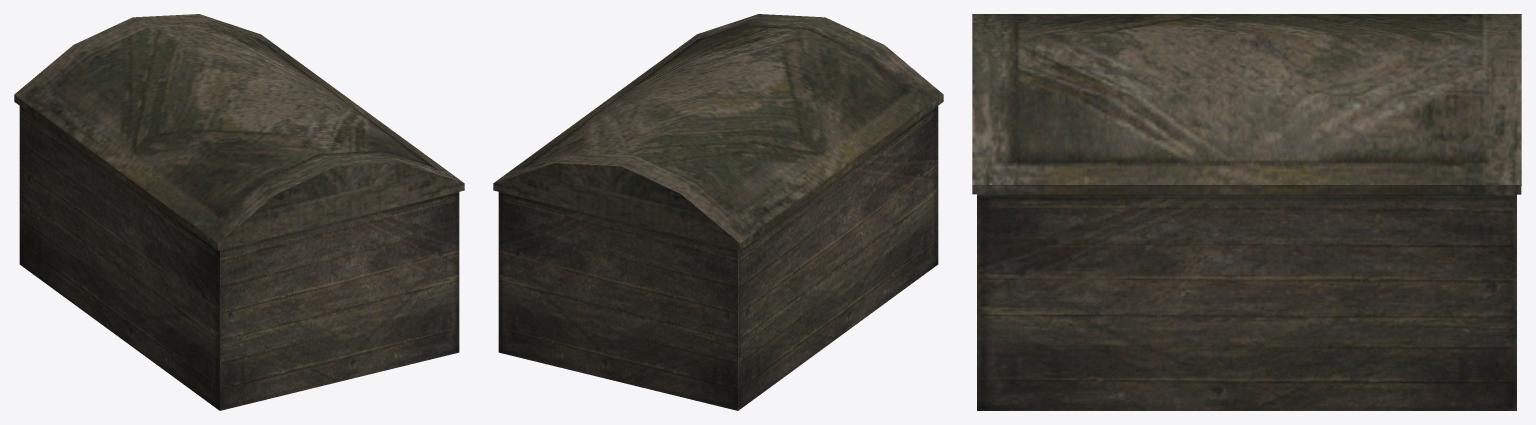
The model's file is ct_chest1.glb.
3 renders of one model, left to right at view 1: azimuth 30°, elevation 25°; view 2: azimuth 150°, elevation 25°; view 3: azimuth 270°, elevation 25°, orthographic. The views are drawn at different scales.
Parts seen in each view (by area): view 1: ct_chest1; view 2: ct_chest1; view 3: ct_chest1.
Boxes of the visible parts, bbox=[...] form: ct_chest1: bbox=[14, 14, 464, 410]; ct_chest1: bbox=[493, 14, 943, 410]; ct_chest1: bbox=[972, 14, 1521, 410].
Size of the model in its own units: 0.9775 by 0.824 by 1.4.
2 materials, 2 textured.
